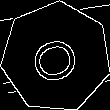O_E: (24, 27, 87, 87)
